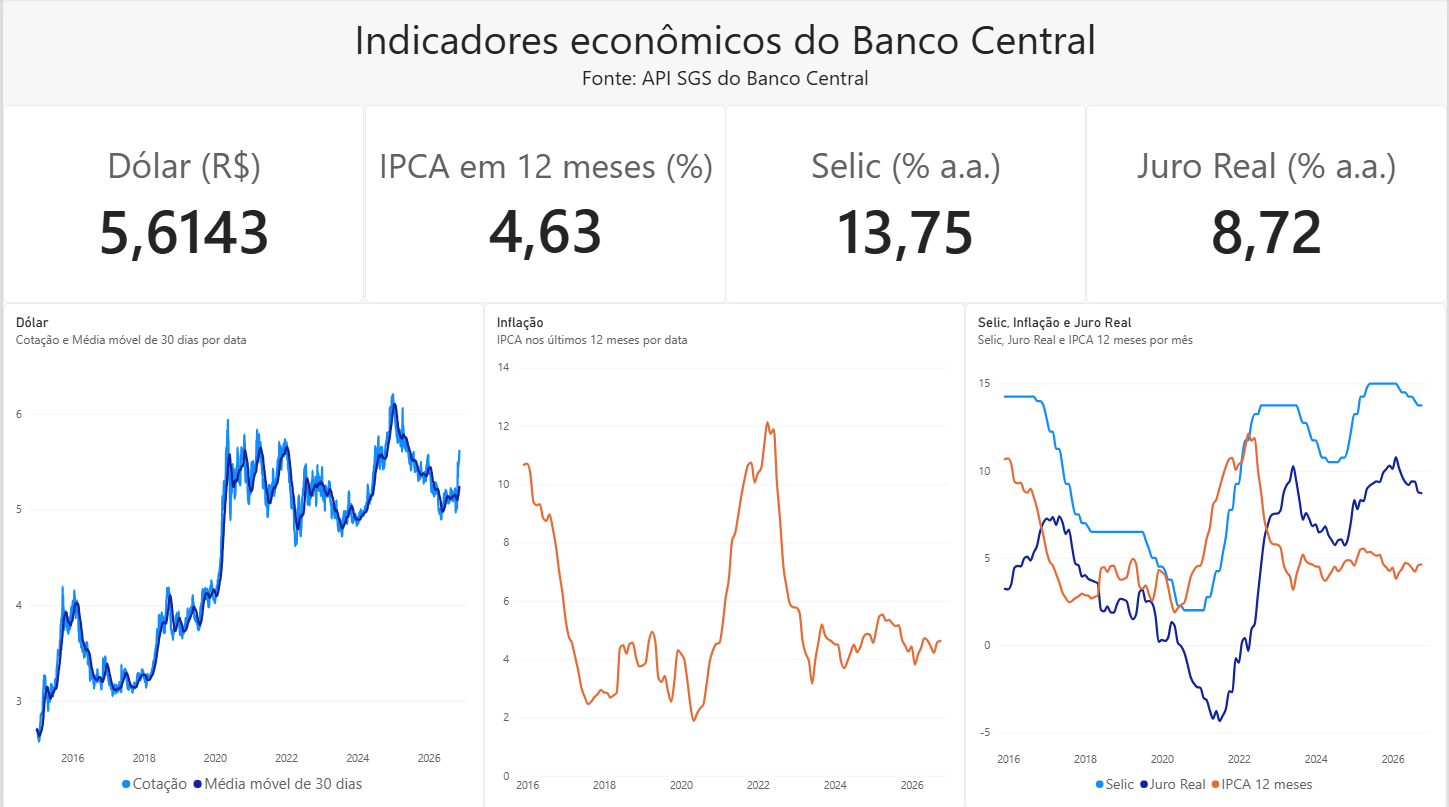

This screenshot's page, from the dashboard's own definition file:
{"tool":"powerbi","page":{"name":"Página 1","canvas":[1920,1080],"ordinal":0},"visuals":[{"type":"cardVisual","fields":{"Data":["Sum(public vw_dolar_diario.cotacao)"]},"box":[0,142.7,480,263.4],"z":0},{"type":"cardVisual","fields":{"Data":["Sum(public vw_ipca_12m.ipca_12m)"]},"box":[481.1,142.7,480,263.4],"z":1},{"type":"cardVisual","fields":{"Data":["Sum(public vw_juro_real_mensal.selic_meta)"]},"box":[960.7,142.7,480,263.4],"z":2},{"type":"cardVisual","fields":{"Data":["Sum(public vw_juro_real_mensal.juro_real)"]},"box":[1440.4,142.7,480,263.4],"z":3},{"type":"lineChart","title":"Dólar","fields":{"Category":["public vw_dolar_diario.data"],"Y":["Avg(public vw_dolar_diario.cotacao)","Avg(public vw_dolar_diario.media_movel_30d)"]},"box":[0,406.1,640,673.8],"z":4},{"type":"lineChart","title":"Inflação","fields":{"Category":["public vw_ipca_12m.data"],"Y":["Avg(public vw_ipca_12m.ipca_12m)"]},"box":[640,406.1,640,673.8],"z":5},{"type":"lineChart","title":"Selic, Inflação e Juro Real ","fields":{"Category":["public vw_juro_real_mensal.mes"],"Y":["Avg(public vw_juro_real_mensal.selic_meta)","Avg(public vw_juro_real_mensal.juro_real)","Avg(public vw_juro_real_mensal.ipca_12m)"]},"box":[1280,406.1,640,673.8],"z":6},{"type":"textbox","box":[442.9,16.2,1035.8,126.5],"z":7}]}

Visuals, with their boxes in screenshot pixels (x1, y1, x2, y2), scaled from the page's 1920x1080 canvas onto the 1449x807 screenshot:
cardVisual - Sum(public vw_dolar_diario.cotacao): x1=0 y1=107 x2=362 y2=303
cardVisual - Sum(public vw_ipca_12m.ipca_12m): x1=363 y1=107 x2=725 y2=303
cardVisual - Sum(public vw_juro_real_mensal.selic_meta): x1=725 y1=107 x2=1087 y2=303
cardVisual - Sum(public vw_juro_real_mensal.juro_real): x1=1087 y1=107 x2=1448 y2=303
"Dólar" lineChart: x1=0 y1=303 x2=483 y2=806
"Inflação" lineChart: x1=483 y1=303 x2=966 y2=806
"Selic, Inflação e Juro Real " lineChart: x1=966 y1=303 x2=1448 y2=806
textbox: x1=334 y1=12 x2=1116 y2=107
